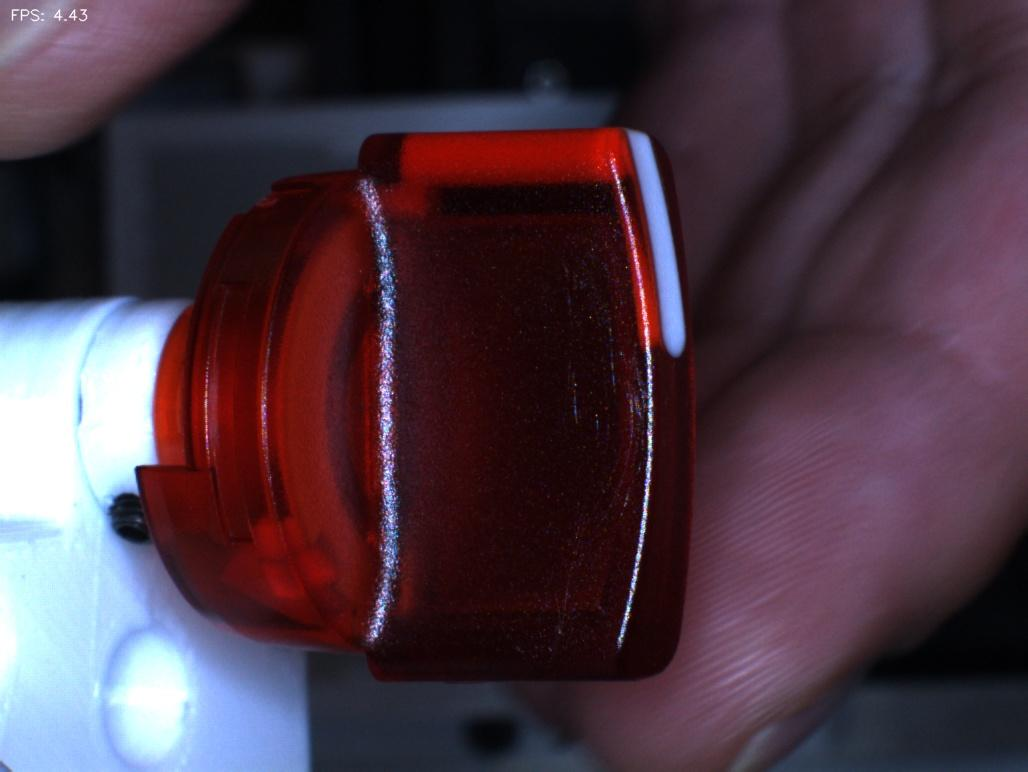Givrage: (556, 279, 652, 532)
